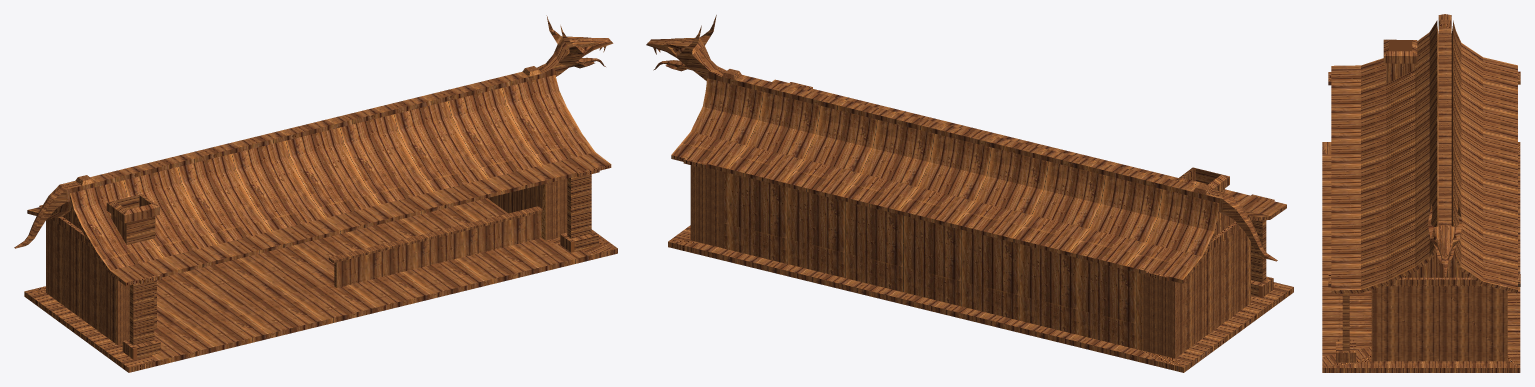
The model's file is casamedievalbloco.fbx.
The picture shows the model from 3 angles, left to right: view 1: azimuth 30°, elevation 25°; view 2: azimuth 150°, elevation 25°; view 3: azimuth 270°, elevation 25°; orthographic projection. The views are drawn at different scales.
Parts seen in each view (by area): view 1: Cube; view 2: Cube; view 3: Cube.
Boxes of the visible parts, x1,y1,x2,y2 form: Cube: (14, 15, 617, 372); Cube: (646, 15, 1293, 372); Cube: (1322, 14, 1520, 372).
Size of the model in its own units: 17603 by 5268 by 5349.
